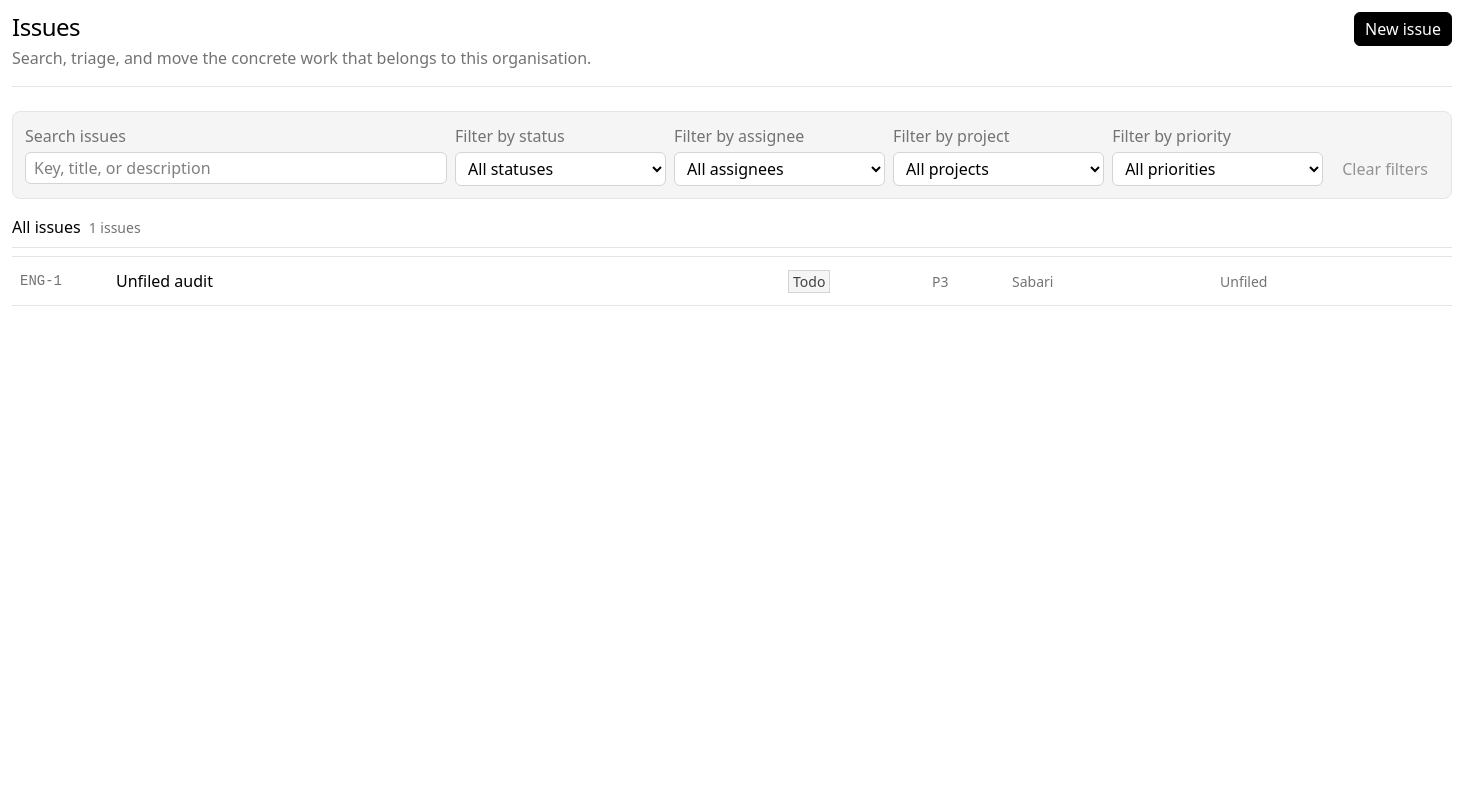
Test: IssuesPage › creates an issue using the shared issue form and clears active filters
Expected: the text "Unfiled audit" is shown, x1=116 y1=270 x2=213 y2=292
Step 1. Select "Todo" in the dropdown with test id "issues-status-filter" → {"x": 560, "y": 169}, box x1=455 y1=152 x2=666 y2=186
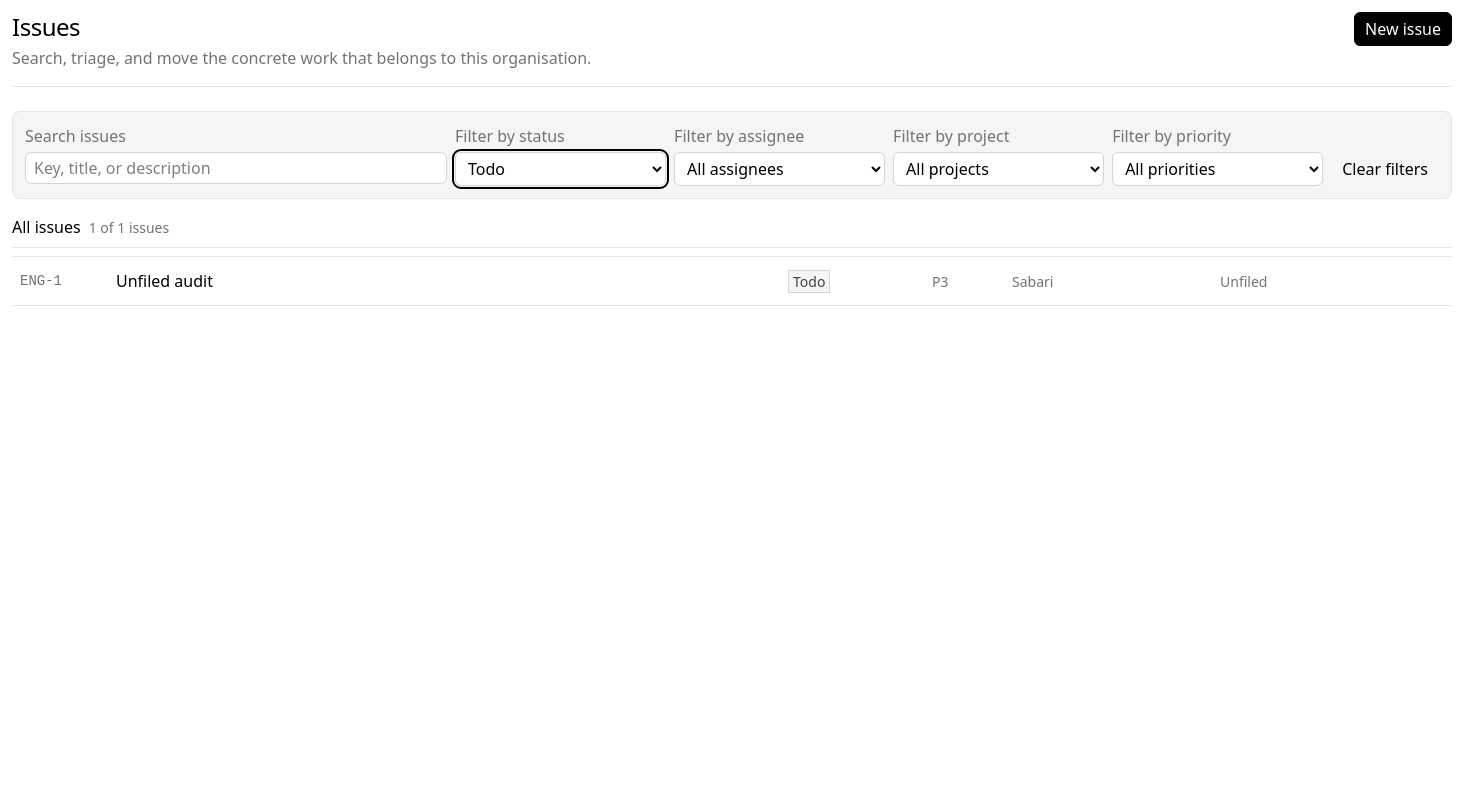
Step 2. Select "Sabari" in the dropdown with test id "issues-assignee-filter" → {"x": 780, "y": 169}, box x1=674 y1=152 x2=885 y2=186
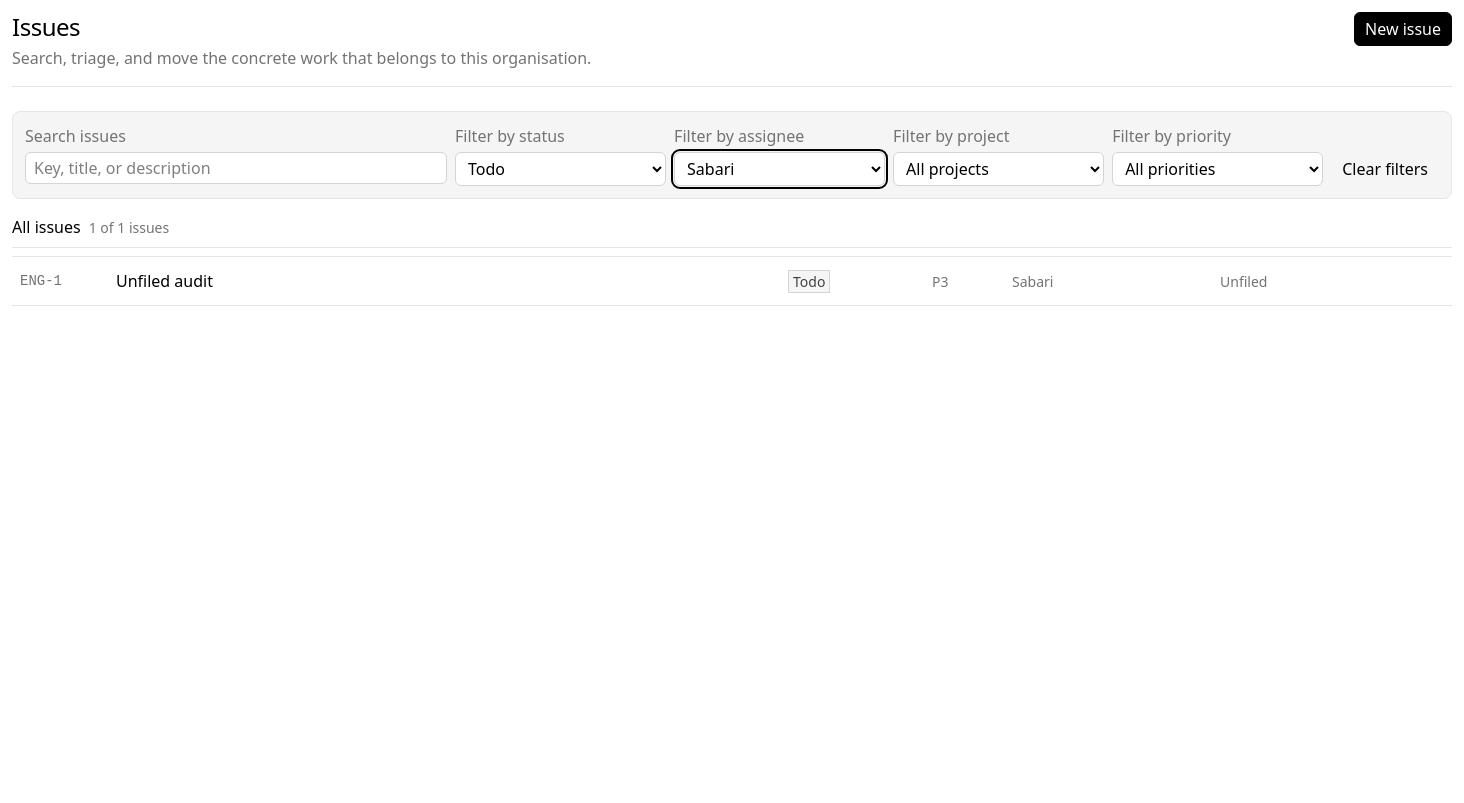
Step 3. Select "P3" in the dropdown with test id "issues-priority-filter" → {"x": 1218, "y": 169}, box x1=1112 y1=152 x2=1323 y2=186
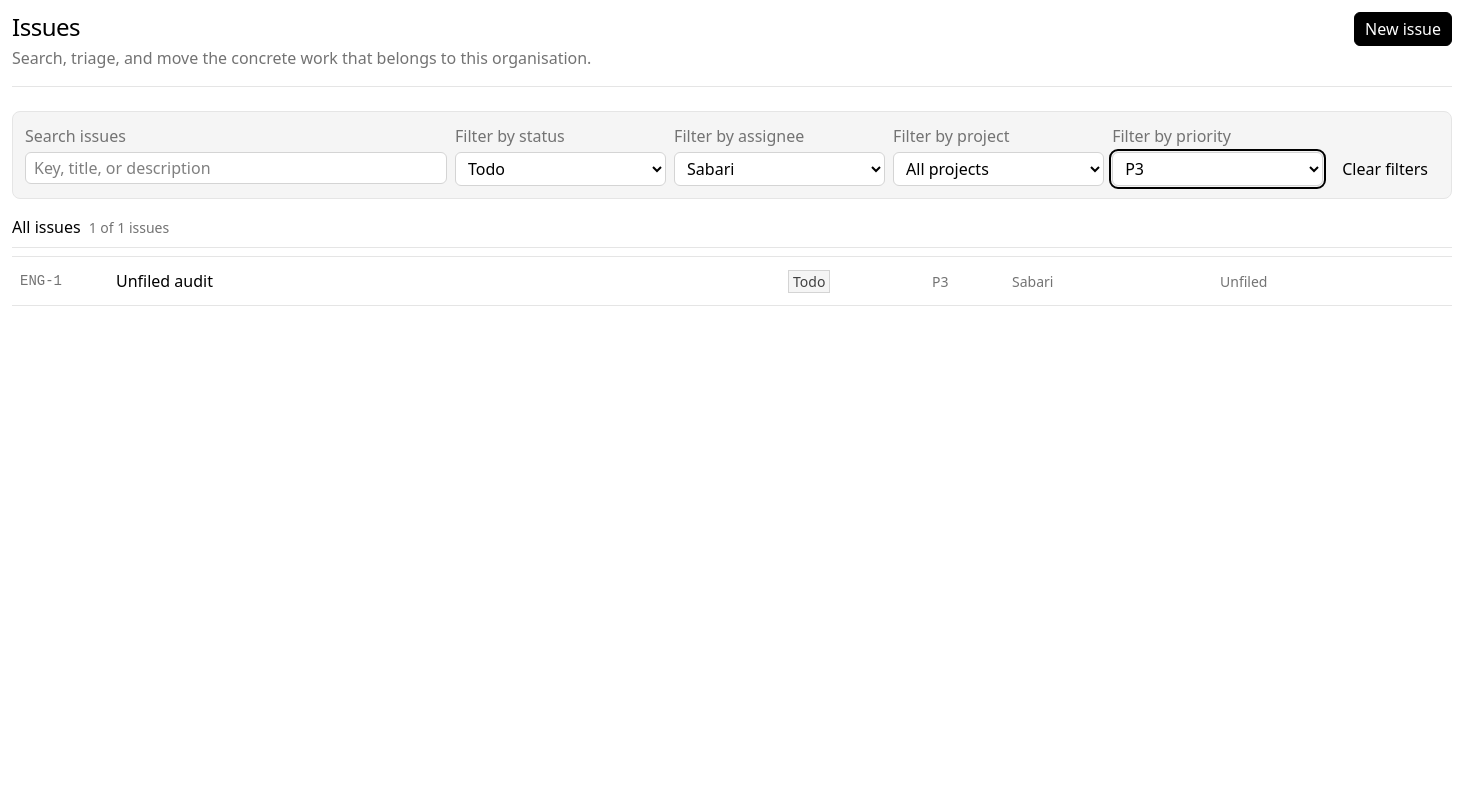
Step 4. Click the button "New issue" → {"x": 1403, "y": 29}, box x1=1354 y1=12 x2=1452 y2=46
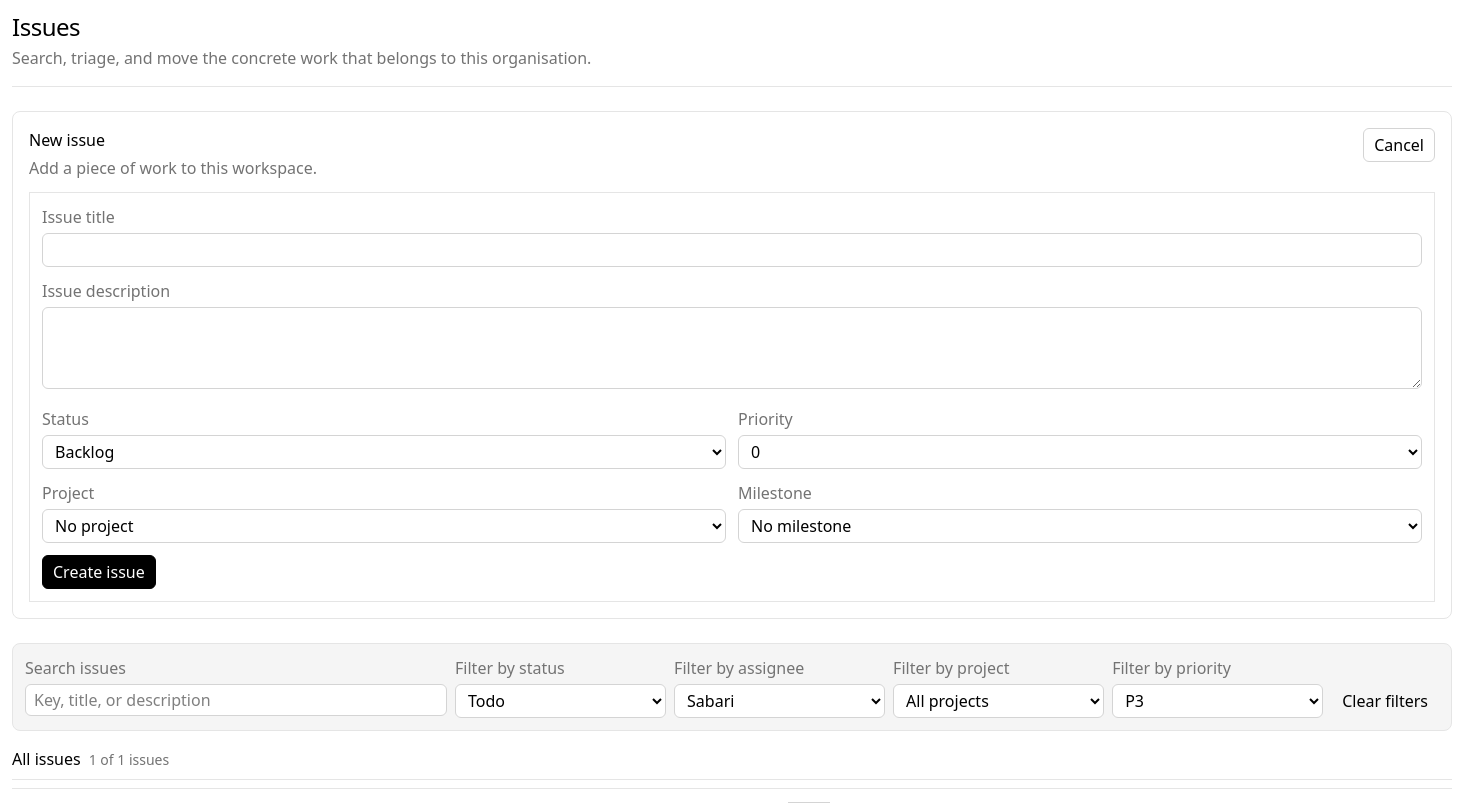
Step 5. Type "New unfiled issue" into the field labelled "Issue title" → {"x": 732, "y": 250}, box x1=42 y1=233 x2=1422 y2=267
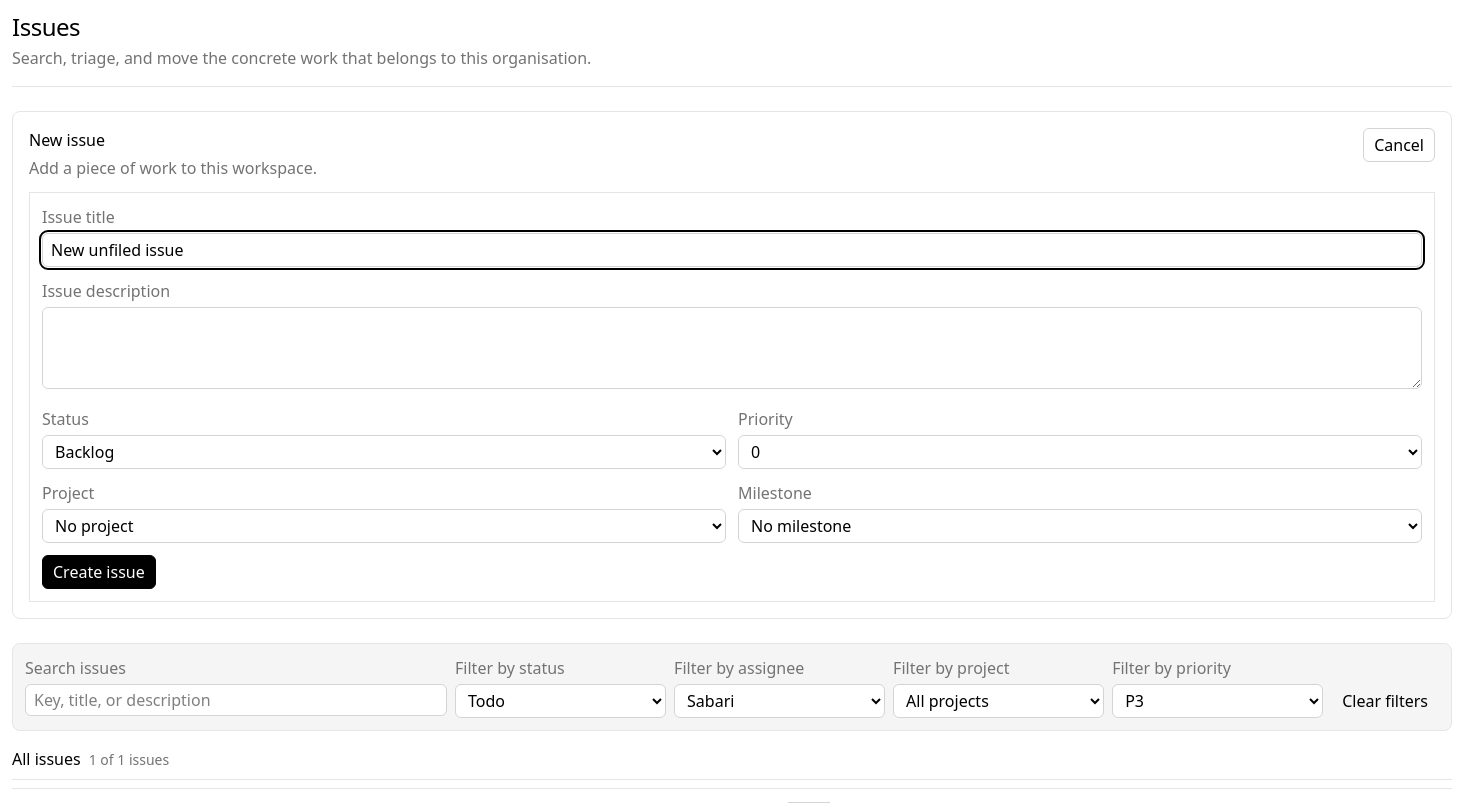
Step 6. Click the button "Create issue" → {"x": 99, "y": 572}, box x1=42 y1=555 x2=156 y2=589
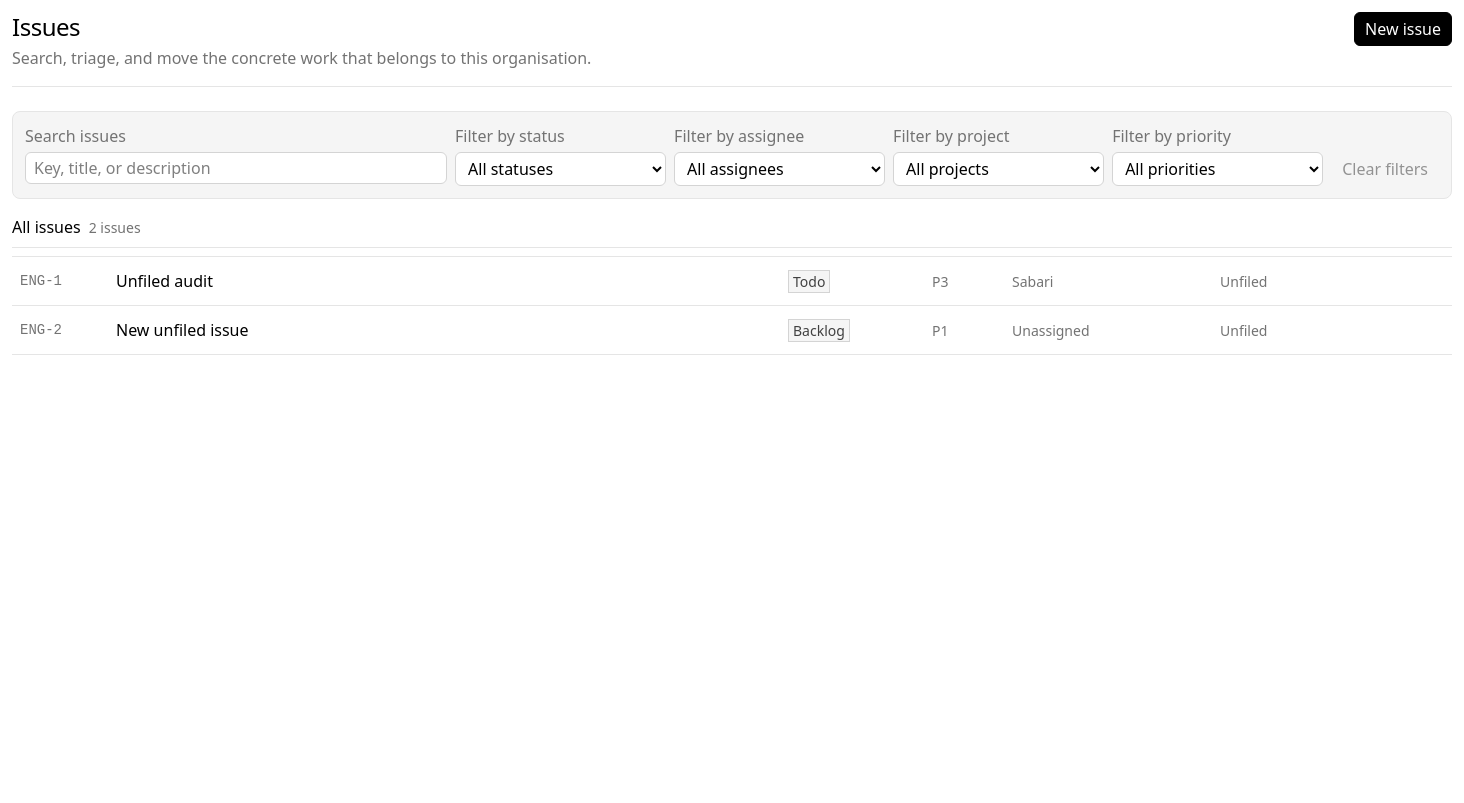
Expected: the text "New unfiled issue" is shown, x1=116 y1=319 x2=248 y2=341
